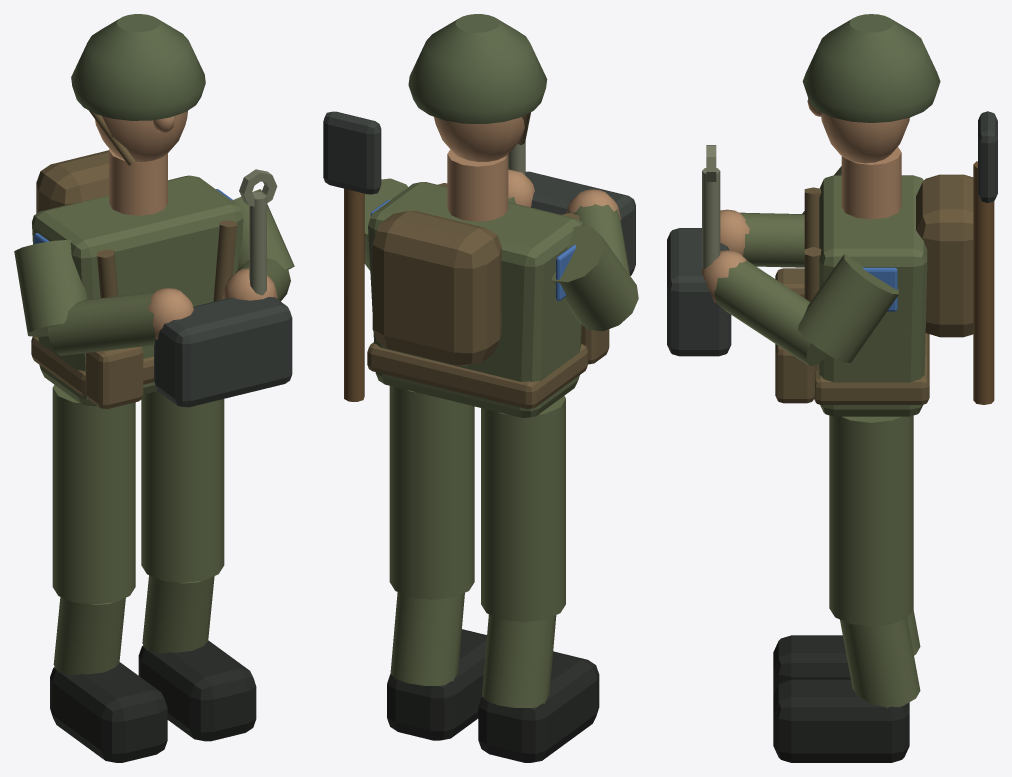
File: engineer.glb
3 renders of one model, left to right at view 1: azimuth 30°, elevation 25°; view 2: azimuth 150°, elevation 25°; view 3: azimuth 270°, elevation 25°, orthographic. The views are drawn at different scales.
Parts seen in each view (by area): view 1: Uniform, Tracks, Steel, Armor, Canvas, Skin, EdgeSteel; view 2: Uniform, Canvas, Tracks, Armor, Skin, Steel, Timber, TeamColor; view 3: Uniform, Canvas, Tracks, Armor, Skin, Steel, Timber, EdgeSteel.
Part boxes in pixels (<box>): Uniform: <box>14,175,294,675</box>; Tracks: <box>50,640,256,762</box>; Steel: <box>154,26,292,407</box>; Armor: <box>71,14,205,120</box>; Canvas: <box>31,110,236,408</box>; Skin: <box>95,111,277,339</box>; EdgeSteel: <box>239,169,277,295</box>; Uniform: <box>364,178,638,707</box>; Canvas: <box>367,112,609,408</box>; Tracks: <box>387,629,599,762</box>; Armor: <box>408,14,547,123</box>; Skin: <box>434,117,621,221</box>; Steel: <box>323,111,635,275</box>; Timber: <box>344,188,364,401</box>; TeamColor: <box>370,199,575,300</box>; Uniform: <box>714,166,927,708</box>; Canvas: <box>775,174,973,404</box>; Tracks: <box>773,635,909,762</box>; Armor: <box>802,14,940,122</box>; Skin: <box>701,98,909,302</box>; Steel: <box>667,111,997,356</box>; Timber: <box>973,161,994,404</box>; EdgeSteel: <box>702,145,720,269</box>.
Bounding box in the file's own units: 0.7649 × 1.95 × 0.825.
